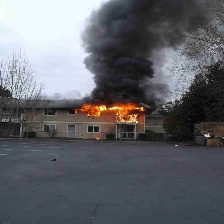fire: (76, 101, 145, 122)
smoke: (77, 1, 224, 99)
